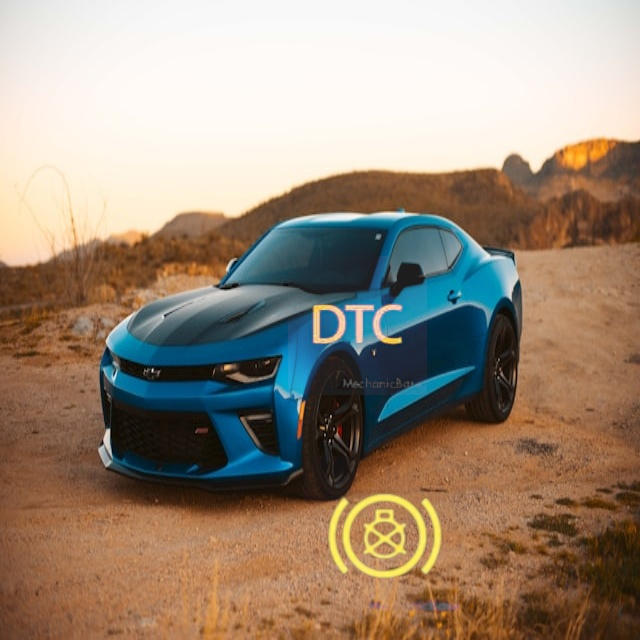symbol: (303, 456, 466, 619), (288, 256, 427, 395)
